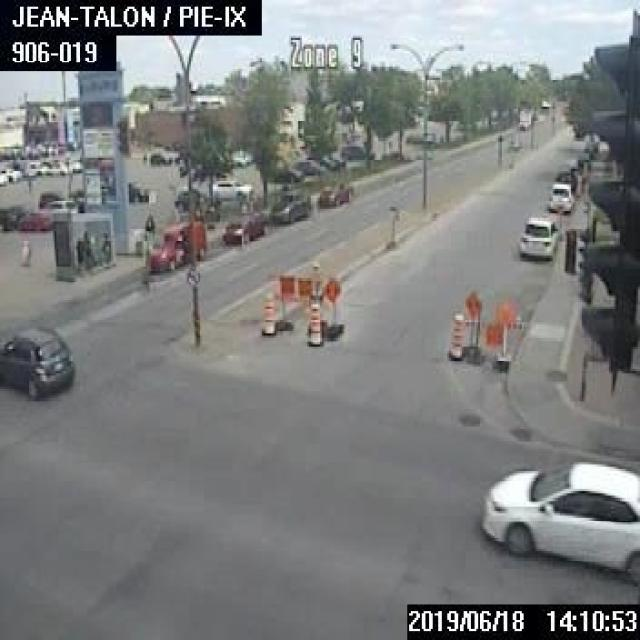construction: (274, 272, 344, 338), (462, 289, 510, 371), (446, 310, 464, 358), (304, 302, 322, 345), (260, 290, 273, 332)
pedestrian: (100, 230, 110, 267), (74, 236, 84, 270), (18, 236, 29, 264), (82, 228, 89, 266), (144, 211, 152, 235)
vehicle: (478, 458, 638, 584), (0, 320, 76, 400), (144, 221, 204, 270), (518, 214, 558, 260), (222, 210, 266, 244), (268, 189, 312, 221), (173, 187, 219, 214), (316, 181, 352, 205), (547, 181, 573, 211), (212, 178, 253, 197), (17, 208, 51, 229), (41, 196, 75, 216), (339, 143, 373, 159), (290, 158, 322, 173), (272, 166, 304, 180), (554, 162, 574, 180), (517, 108, 533, 128), (0, 209, 16, 229), (18, 159, 36, 175), (149, 151, 171, 164), (324, 152, 344, 166), (0, 165, 20, 179), (314, 155, 334, 168), (0, 173, 5, 184)
